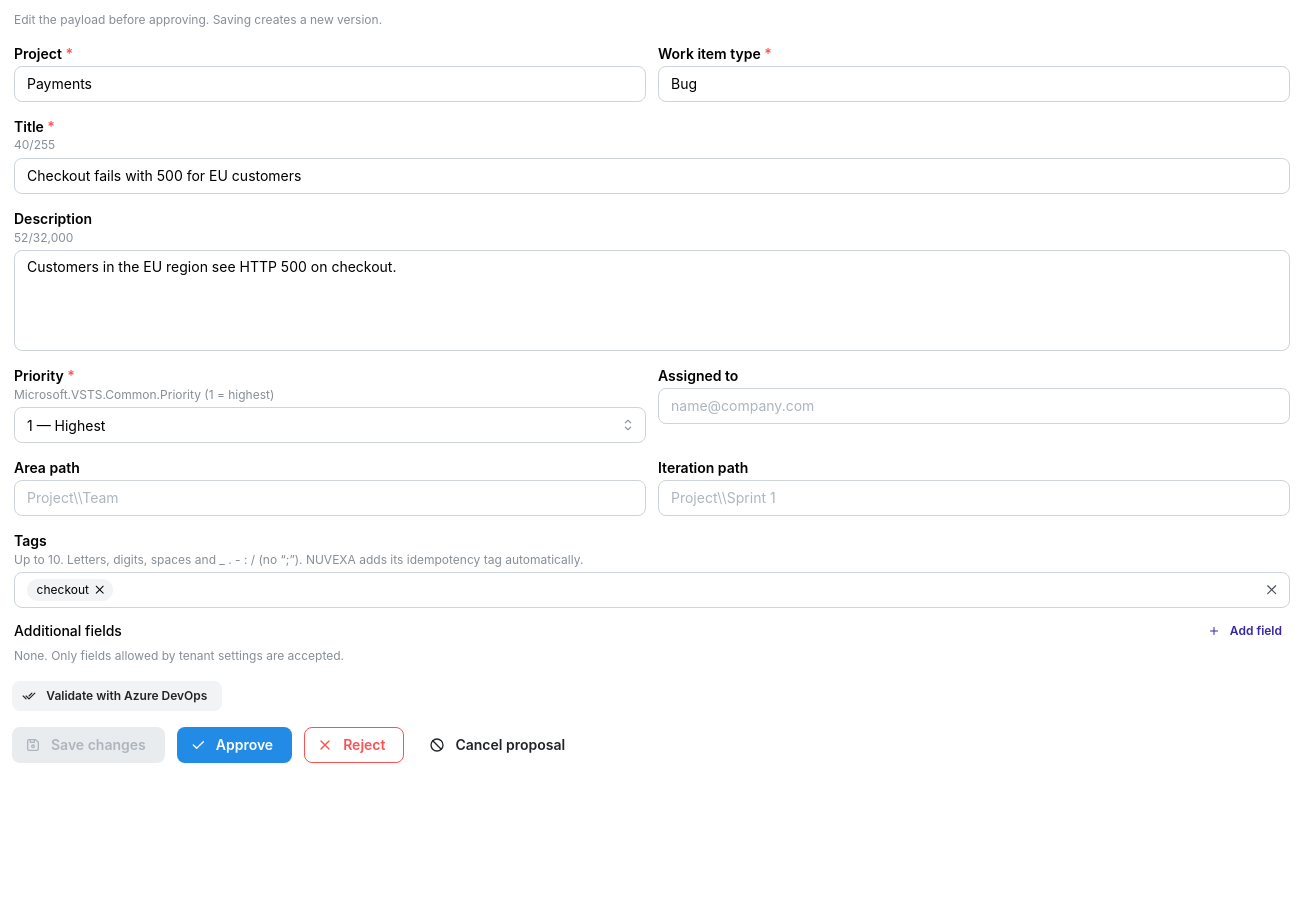
Scenario: <AdoEditor> › a 422 that only targets fields shows no general alert; one without details shows the message
In the field labelled "Title *": x=652, y=176 [14, 158, 1290, 194], type "!"
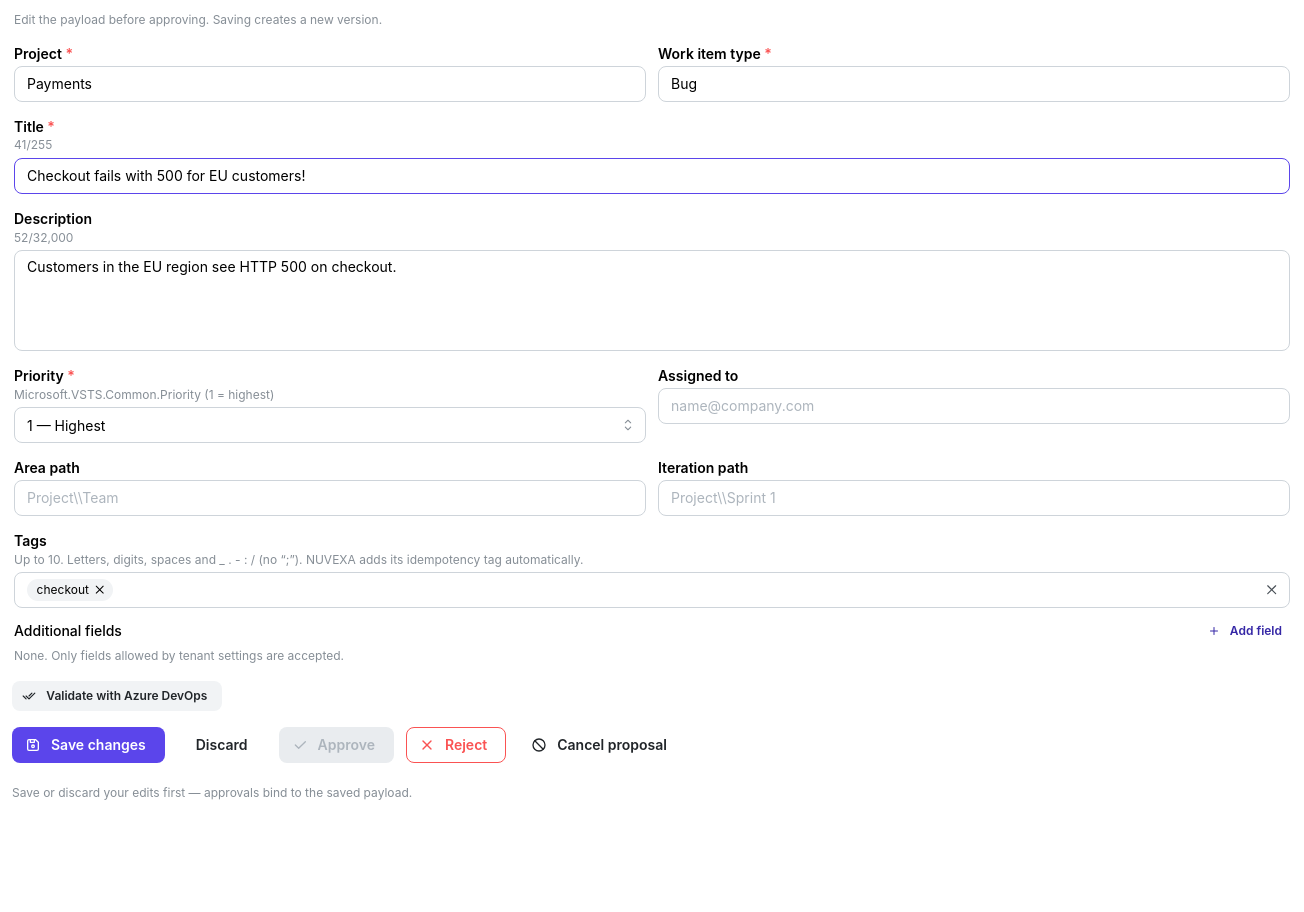
Click the button "Save changes": x=88, y=745 [12, 727, 165, 763]
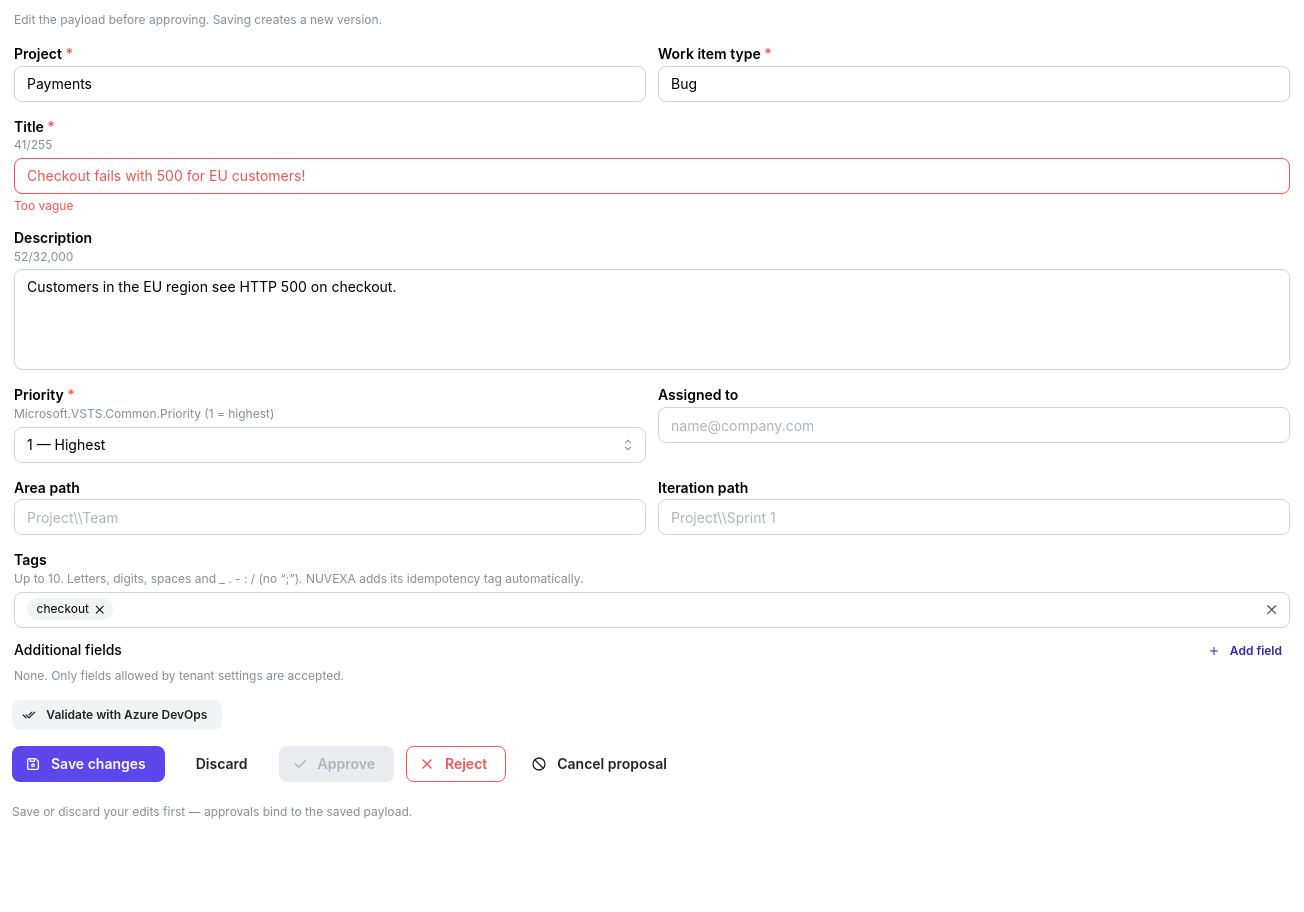
Expected: the message "The server rejected these changes" is not shown
Click the button "Save changes": x=88, y=764 [12, 746, 165, 782]
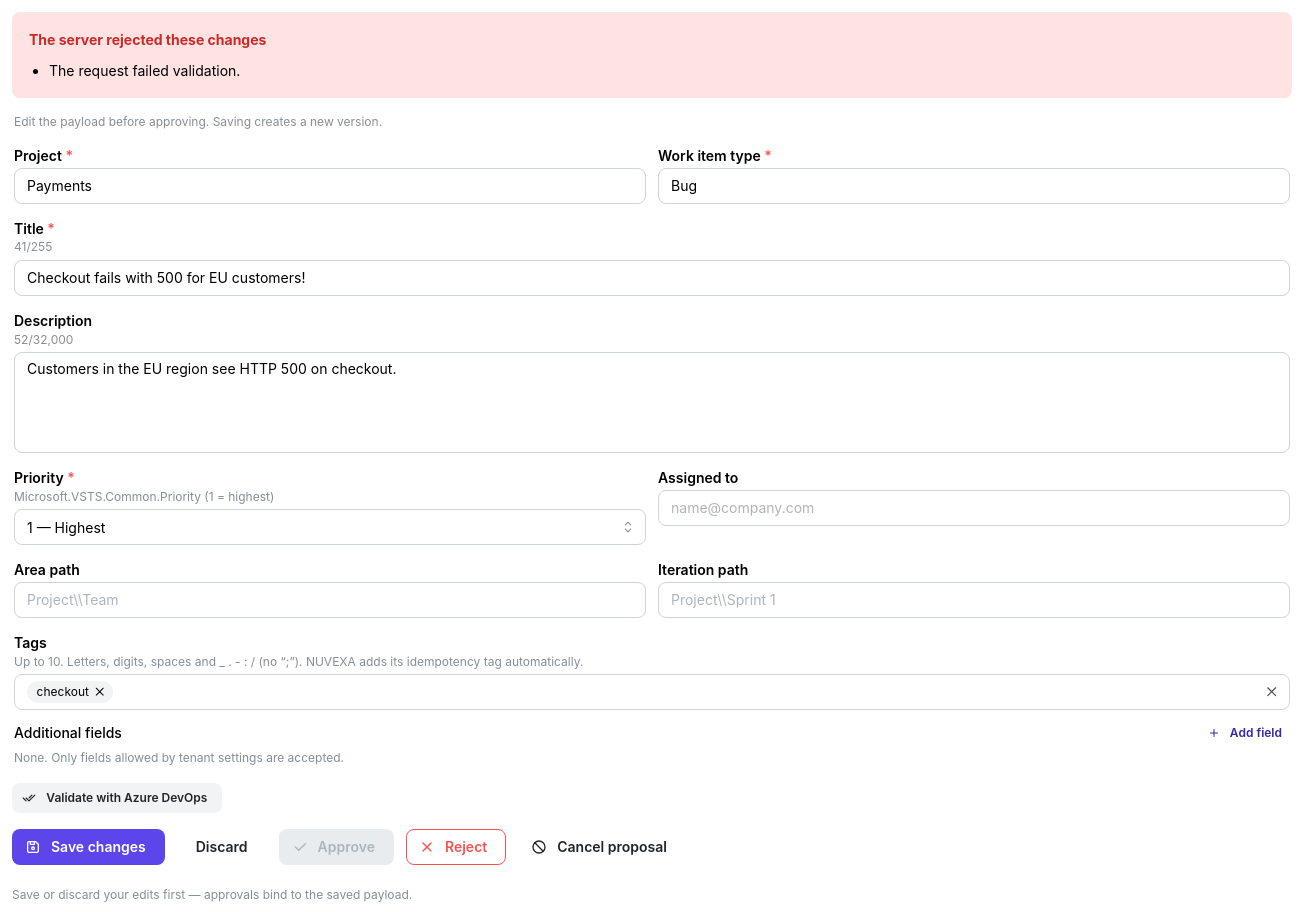
Now the message "The server rejected these changes" shows "The request failed validation.", box [49, 62, 240, 79]
# Discard resets the form and clears server errors.
Click the button "Discard": x=222, y=847 [177, 829, 266, 865]
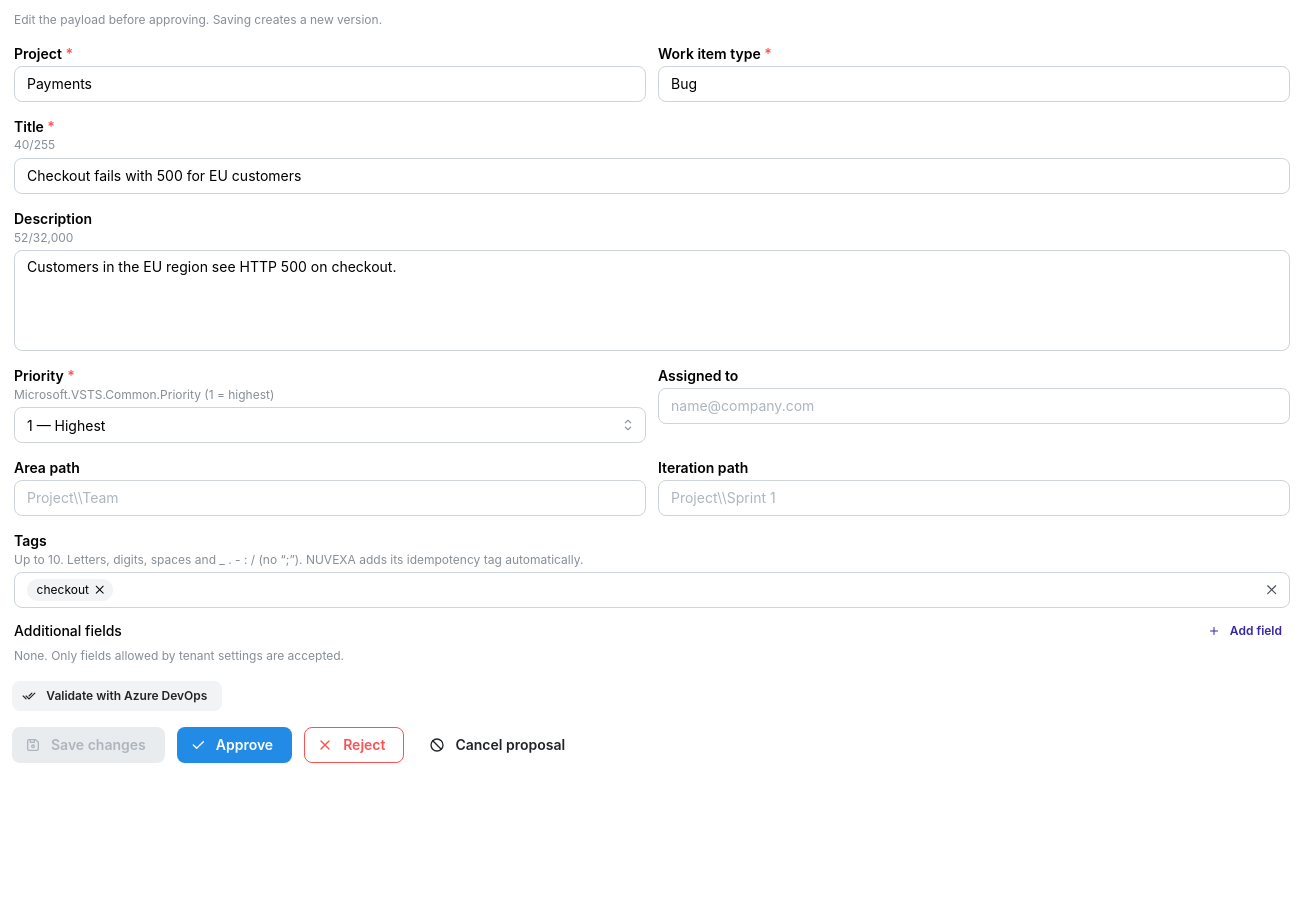
Now the text "The server rejected these changes" is gone
Now the field labelled "Title *" holds "Checkout fails with 500 for EU customers", box [14, 158, 1290, 194]
Now the button "Save changes" is disabled, box [12, 727, 165, 763]
